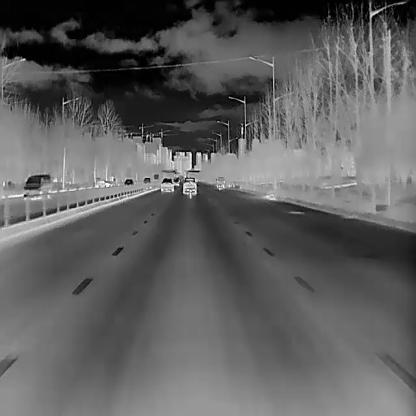car: (22, 173, 51, 200), (182, 177, 197, 194), (161, 177, 174, 192), (214, 176, 225, 190), (122, 178, 133, 186), (173, 176, 180, 186), (142, 176, 150, 184)
